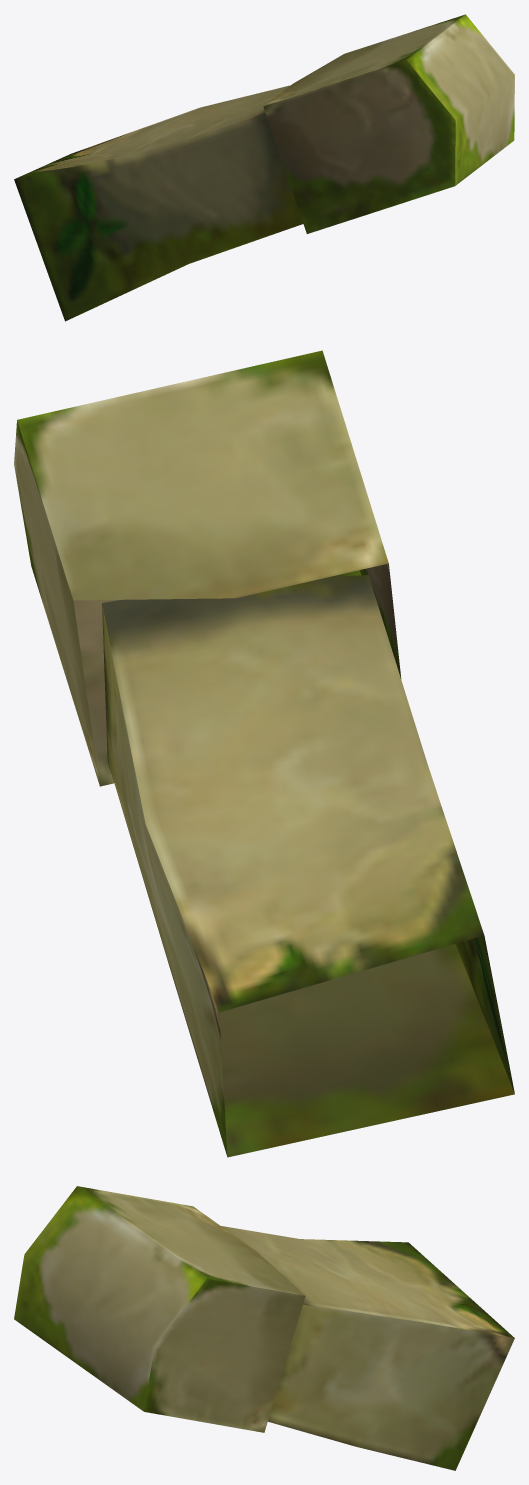
File: shizhu_04.FBX
The picture shows the model from 3 angles, top to bottom: view 1: azimuth 30°, elevation 25°; view 2: azimuth 150°, elevation 25°; view 3: azimuth 270°, elevation 25°; orthographic projection. The views are drawn at different scales.
Visible parts, largest first — view 1: shizhu_04; view 2: shizhu_04; view 3: shizhu_04.
Part boxes in pixels (<box>): shizhu_04: <box>14,14,514,321</box>; shizhu_04: <box>14,350,514,1157</box>; shizhu_04: <box>14,1186,514,1470</box>.
Bounding box in the file's own units: 6.95 × 7.03 × 5.38.
